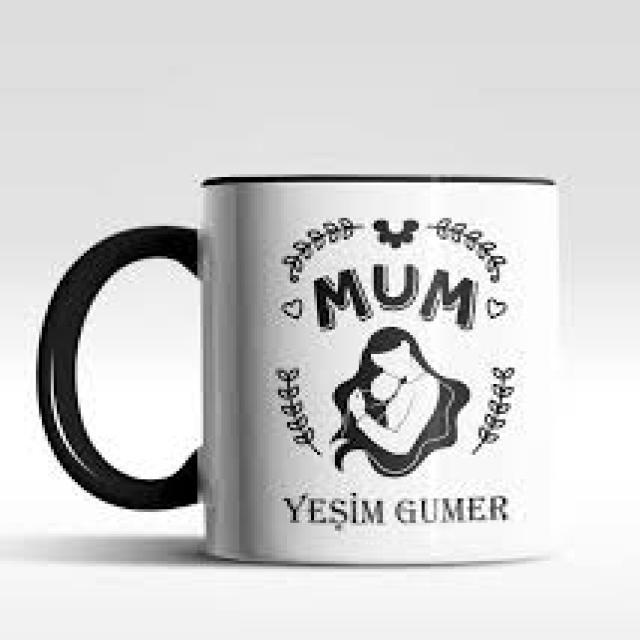taza: (32, 175, 560, 568)
